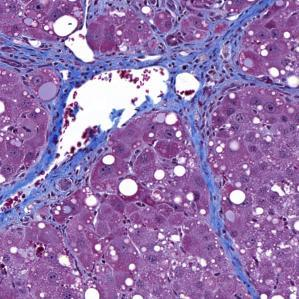fibrosis: (159, 43, 242, 118), (195, 150, 238, 264), (18, 150, 95, 209), (9, 40, 94, 91)
